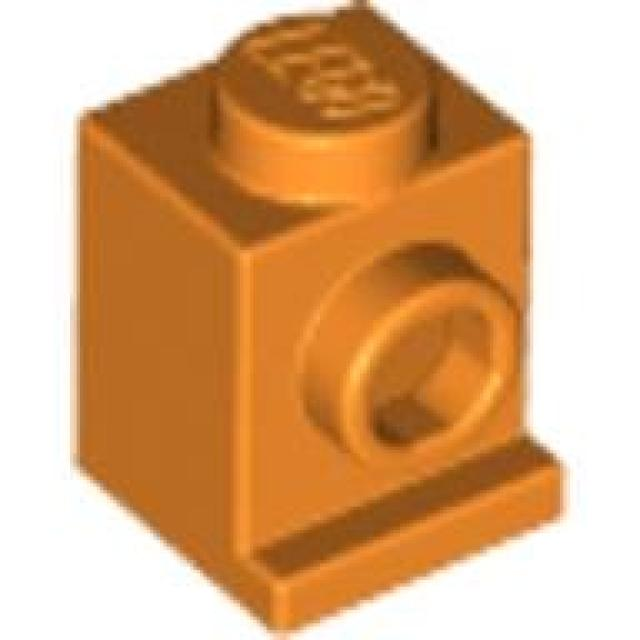Orange_Small: (73, 3, 563, 633)
